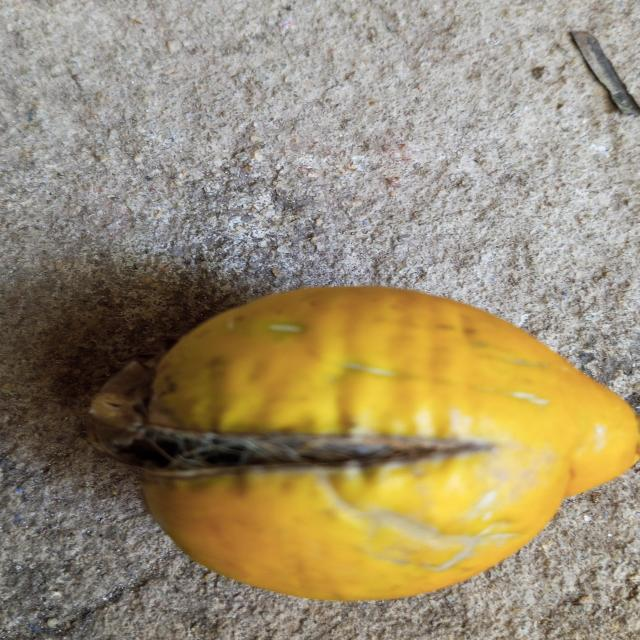damaged: (87, 287, 638, 600)
